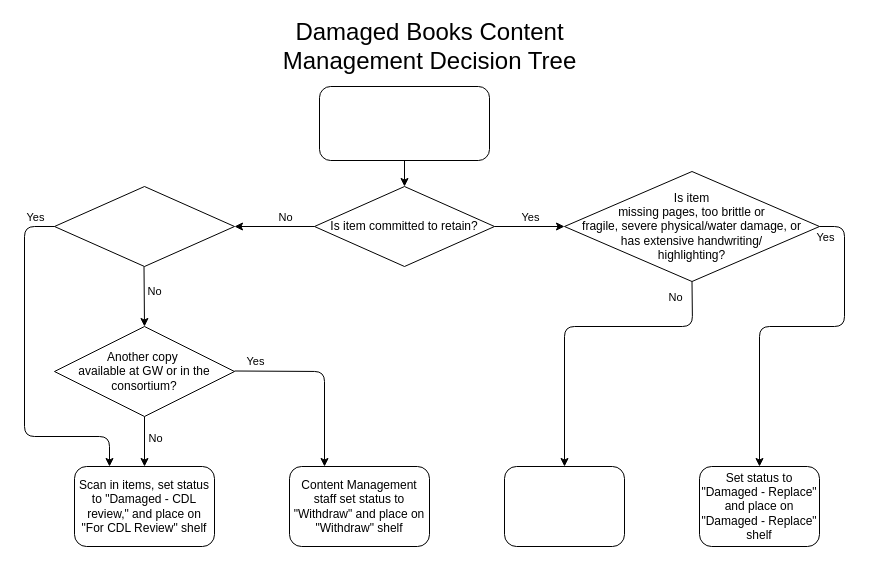
Some shapes in this 870 by 564 pixel diagram are drawn without their labels. The centre of each missing label's shape, as x and y in pixels:
Item delivered to Incoming - Damaged shelf by Access Services: the point at 404,123
Part of a multi-volume set?: the point at 144,226
Set status to "Damaged - Bindery" and place on "Damaged - Bindery" shelf: the point at 564,506
